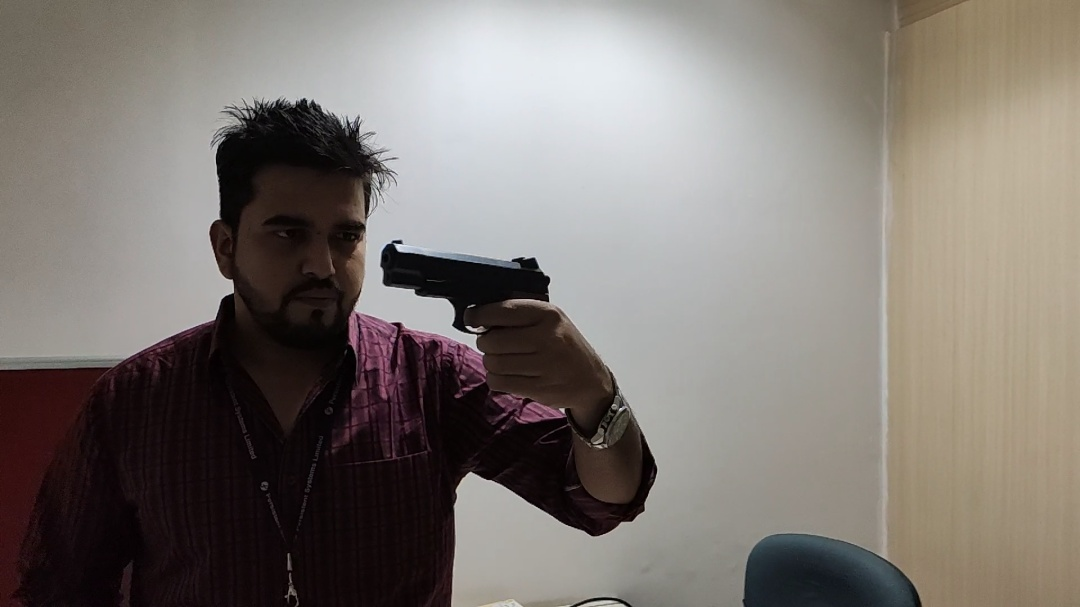gun: (376, 234, 558, 406)
